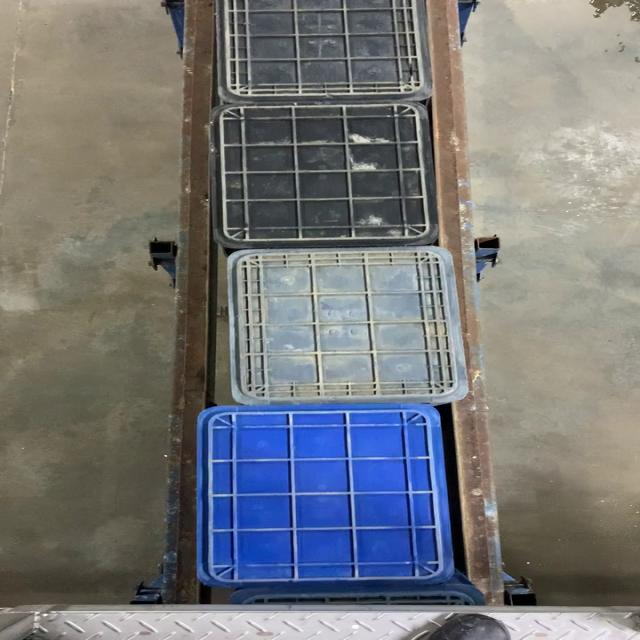Box: (195, 405, 471, 588), (226, 249, 468, 403), (210, 98, 440, 246)
